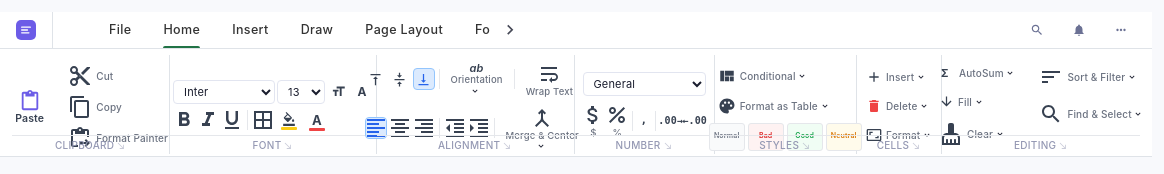
Test: Editing Group Dropdowns › Fill dropdown shows Down, Right, Up, Left
Click the button "Fill". click: (961, 102)
box: [930, 90, 993, 113]
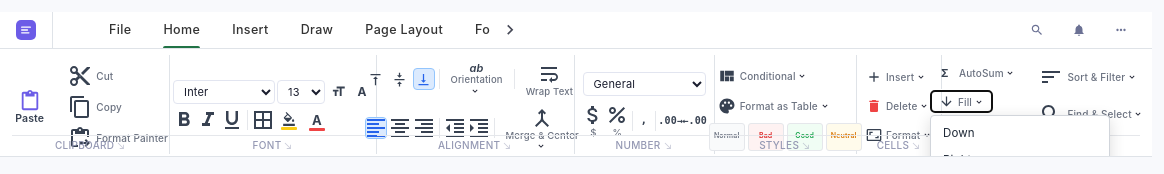
Expected: the text "Down" is shown, [943, 125, 975, 142]
